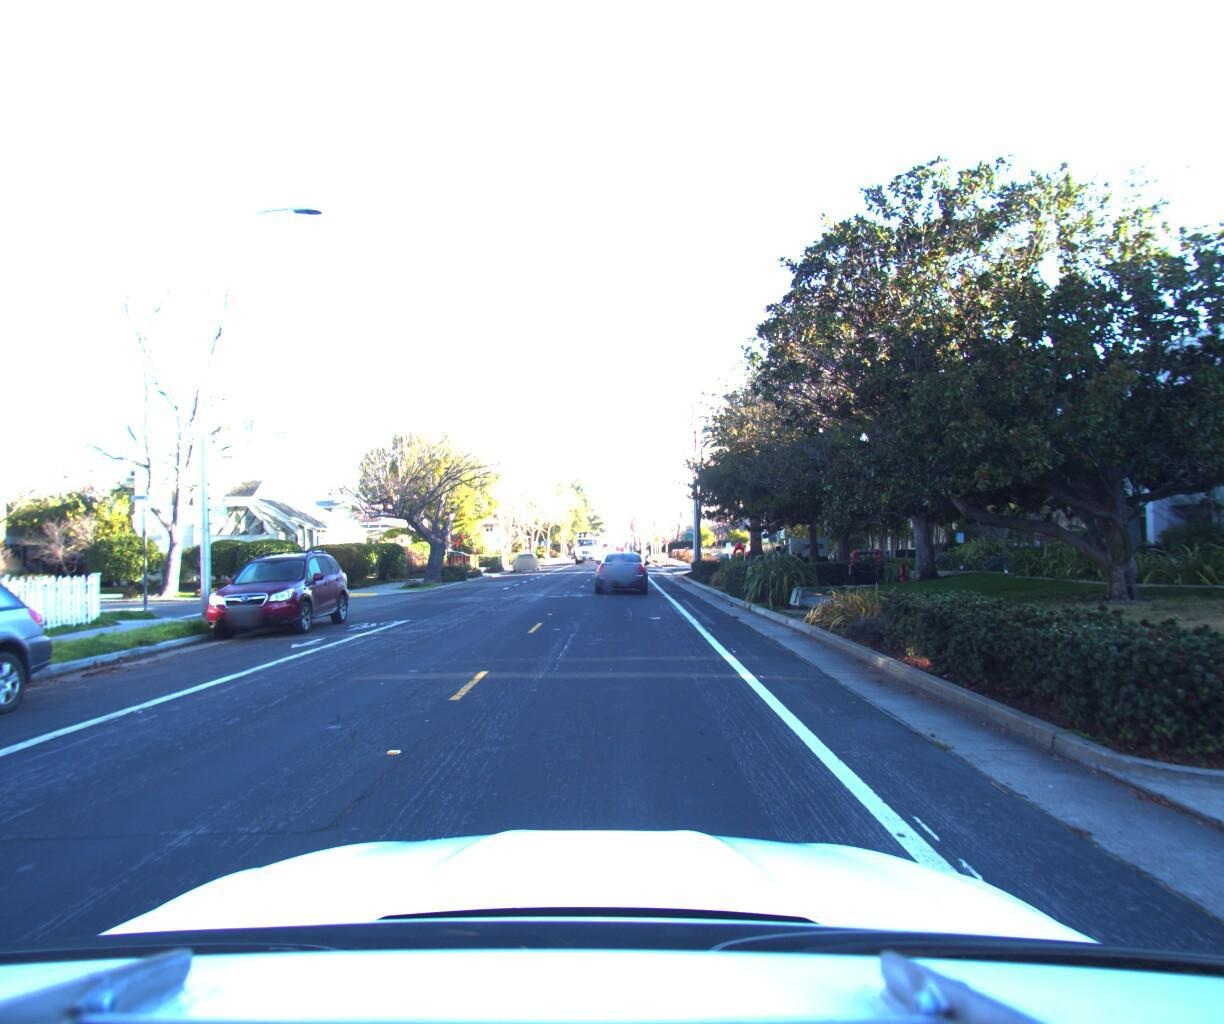car: (0, 553, 83, 855), (183, 541, 363, 640), (592, 542, 652, 590), (509, 543, 541, 564)
truck: (572, 514, 604, 556)
